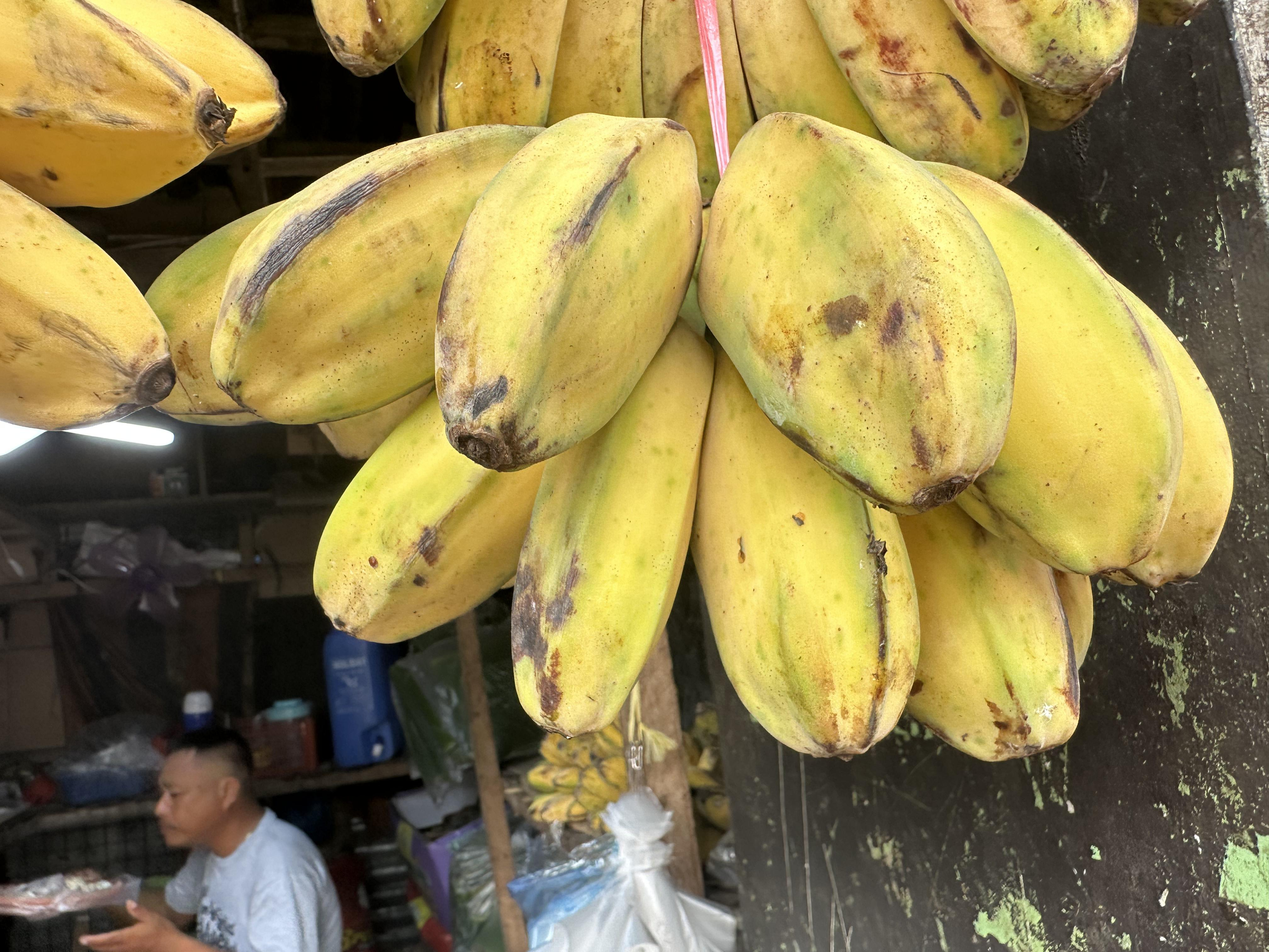ripe: (0, 0, 285, 430)
underripe: (145, 112, 1238, 765), (312, 0, 1210, 206)
